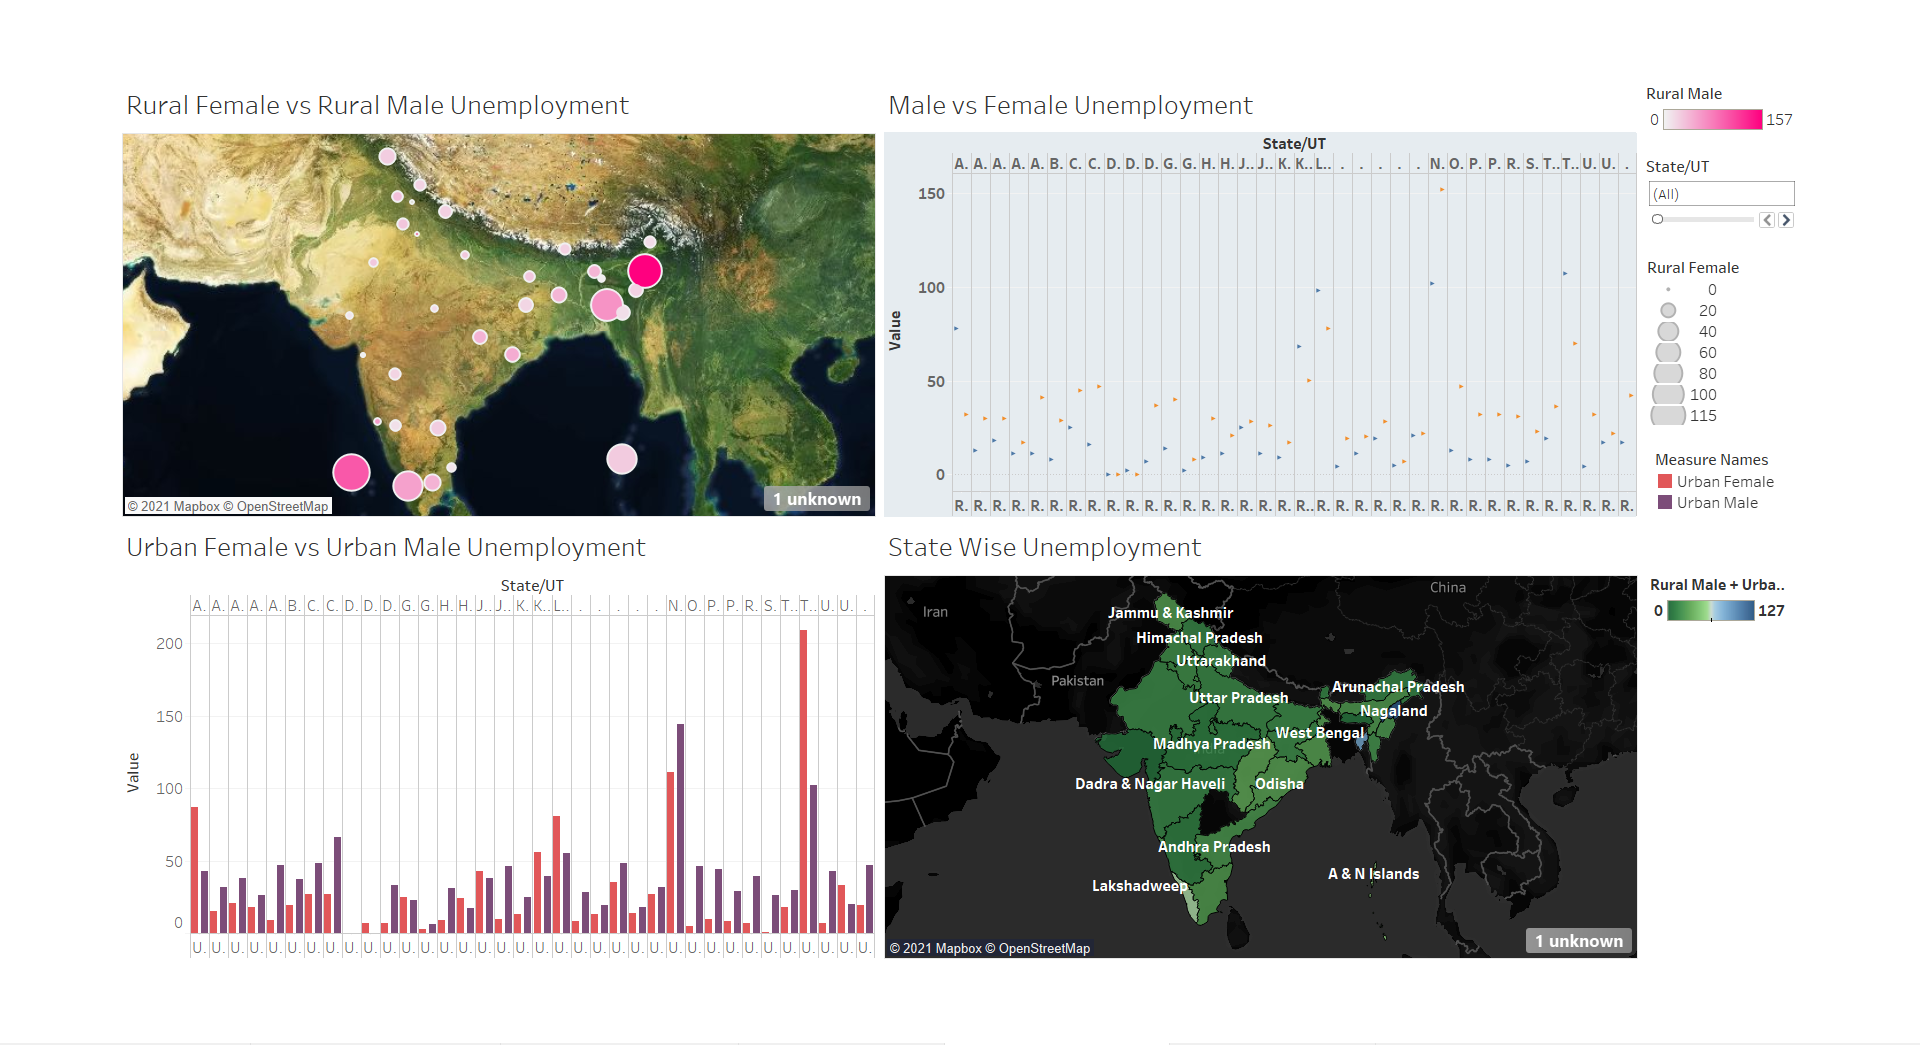

The page's visual inventory and layout, read from the dashboard file:
{"tool":"tableau","page":{"name":"Unemployment Dashboard","canvas":[1700,900],"ordinal":0},"visuals":[{"type":"worksheet","box":[0,0,1700,900]},{"type":"worksheet","param":"horz","box":[8,8,1684,884]},{"type":"worksheet","box":[8,8,1524,884]},{"type":"worksheet","title":"Rural Female vs Rural Male Unemployment","mark":"Automatic","box":[8,8,762,442]},{"type":"worksheet","title":"Male vs Female Unemployment","mark":"Shape","cols":["State/UT"],"box":[770,8,762,442]},{"type":"worksheet","param":"vert","box":[1532,8,160,884]},{"type":"worksheet","title":"Rural Female vs Rural Male Unemployment","mark":"Automatic","param":"[federated.1pd5ysd0o77phg1fyh6210v14n7w].[sum:Rural Male:qk]","box":[1532,8,160,73]},{"type":"worksheet","title":"Rural Female vs Rural Male Unemployment","mark":"Automatic","param":"[federated.1pd5ysd0o77phg1fyh6210v14n7w].[sum:Rural Female:qk]","box":[1544,127,140,169]},{"type":"worksheet","title":"Urban Female vs Urban Male Unemployment","mark":"Automatic","cols":["State/UT"],"param":"[federated.1pd5ysd0o77phg1fyh6210v14n7w].[:Measure Names]","box":[1545,378,140,64]},{"type":"worksheet","title":"Urban Female vs Urban Male Unemployment","mark":"Automatic","cols":["State/UT"],"box":[8,450,762,442]},{"type":"worksheet","title":"State Wise Unemployment","mark":"Automatic","box":[770,450,762,442]},{"type":"worksheet","title":"State Wise Unemployment","mark":"Automatic","param":"[federated.1pd5ysd0o77phg1fyh6210v14n7w].[sum:Rural Male + Urban Male + Rural Fe","box":[1540,503,140,88]}]}

Visuals, with their boxes in screenshot pixels (x1, y1, x2, y2), scaled from the page's 1700x900 canvas onto the 1920x1045 screenshot:
worksheet: box(0, 0, 1919, 1044)
worksheet: box(9, 9, 1911, 1036)
worksheet: box(9, 9, 1730, 1036)
"Rural Female vs Rural Male Unemployment" worksheet: box(9, 9, 870, 522)
"Male vs Female Unemployment" worksheet (Shape marks): box(870, 9, 1730, 522)
worksheet: box(1730, 9, 1911, 1036)
"Rural Female vs Rural Male Unemployment" worksheet: box(1730, 9, 1911, 94)
"Rural Female vs Rural Male Unemployment" worksheet: box(1744, 147, 1902, 344)
"Urban Female vs Urban Male Unemployment" worksheet: box(1745, 439, 1903, 513)
"Urban Female vs Urban Male Unemployment" worksheet: box(9, 522, 870, 1036)
"State Wise Unemployment" worksheet: box(870, 522, 1730, 1036)
"State Wise Unemployment" worksheet: box(1739, 584, 1897, 686)
